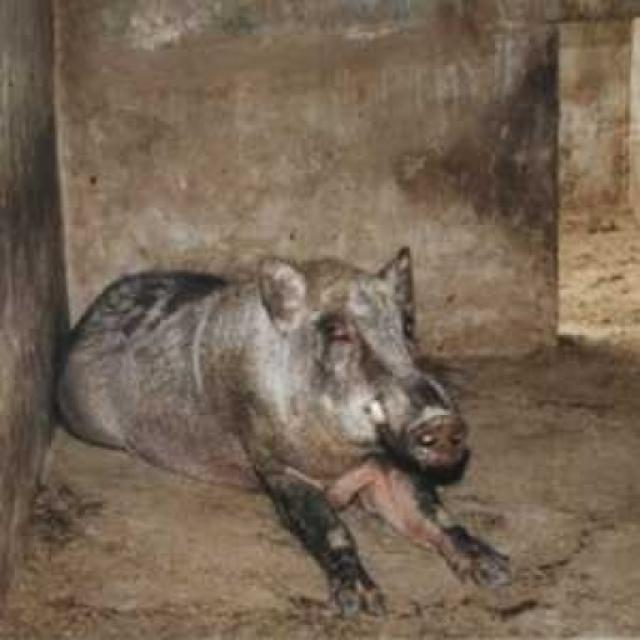pig: (79, 203, 518, 570)
